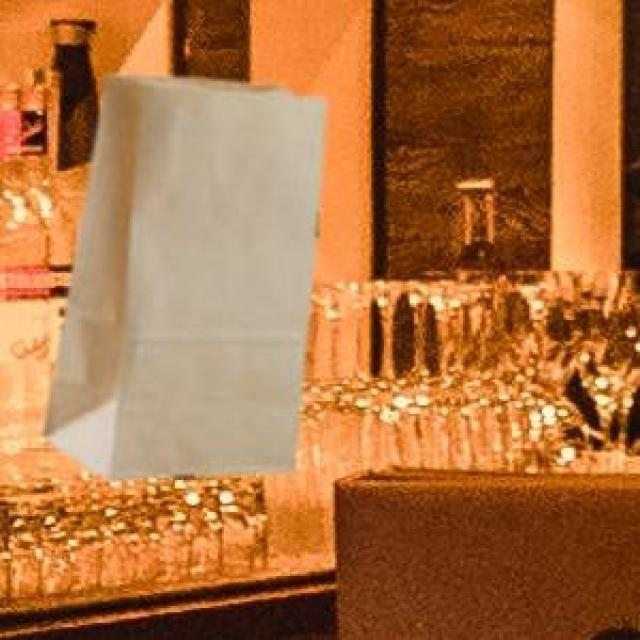paper: (41, 70, 322, 474)
